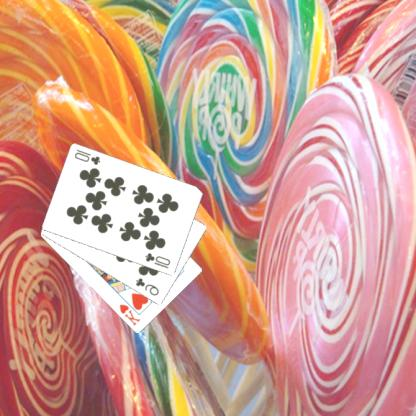10C: (73, 146, 104, 166), (144, 250, 174, 270)
9C: (135, 275, 162, 297)
KH: (118, 301, 144, 327)
